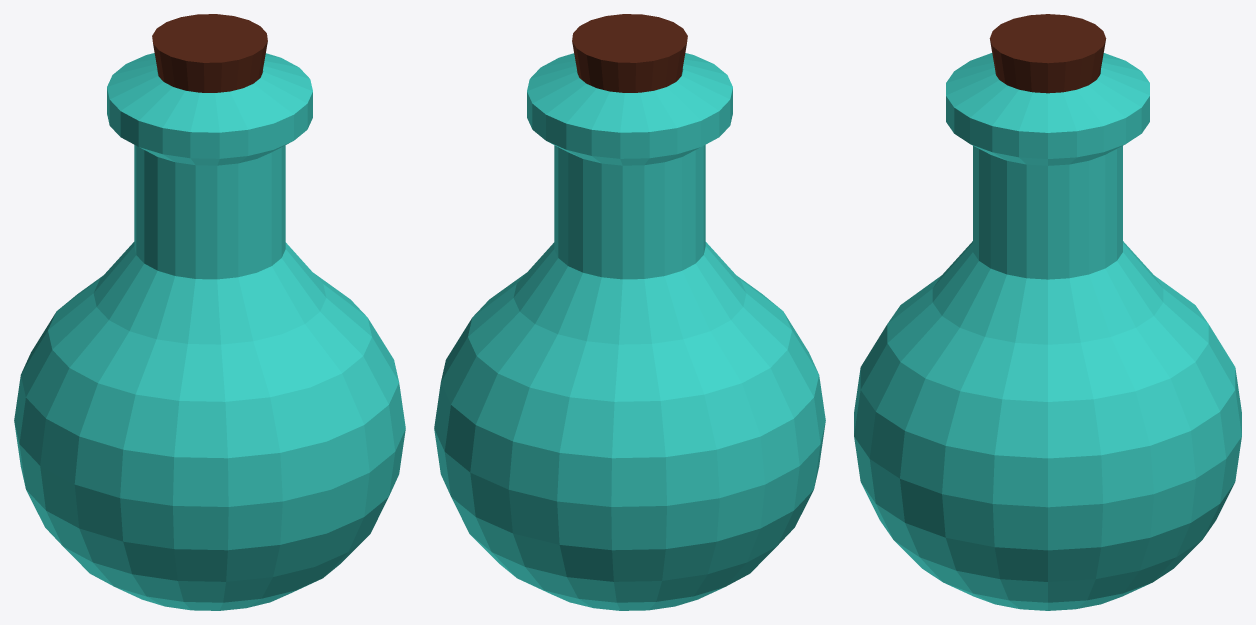
File: bottle.fbx
3 renders of one model, left to right at view 1: azimuth 30°, elevation 25°; view 2: azimuth 150°, elevation 25°; view 3: azimuth 270°, elevation 25°, orthographic.
Visible parts, largest first — view 1: Sphere; view 2: Sphere; view 3: Sphere.
Boxes of the visible parts, <box> form: Sphere: <box>14,14,405,610</box>; Sphere: <box>434,14,825,610</box>; Sphere: <box>854,14,1241,610</box>.
Bounding box in the file's own units: 200 × 310 × 198.
